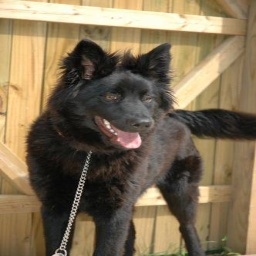dog: (25, 39, 227, 252)
